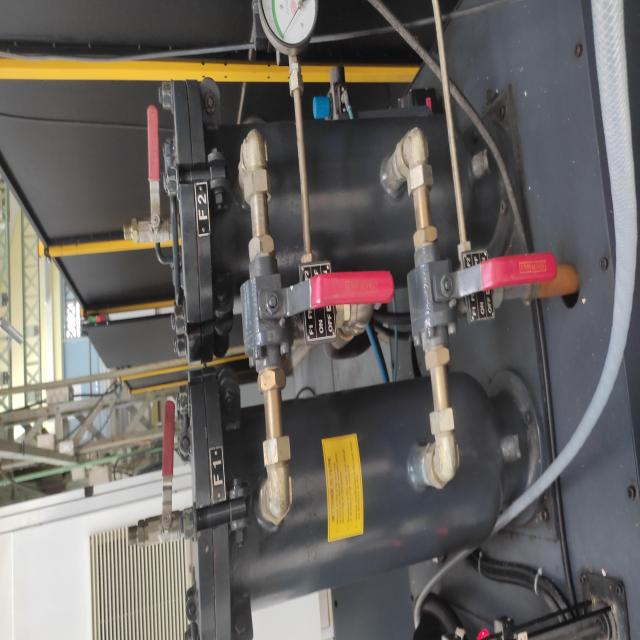closed_valve: (238, 228, 393, 385), (406, 227, 556, 386), (138, 391, 189, 546), (130, 103, 176, 251)
